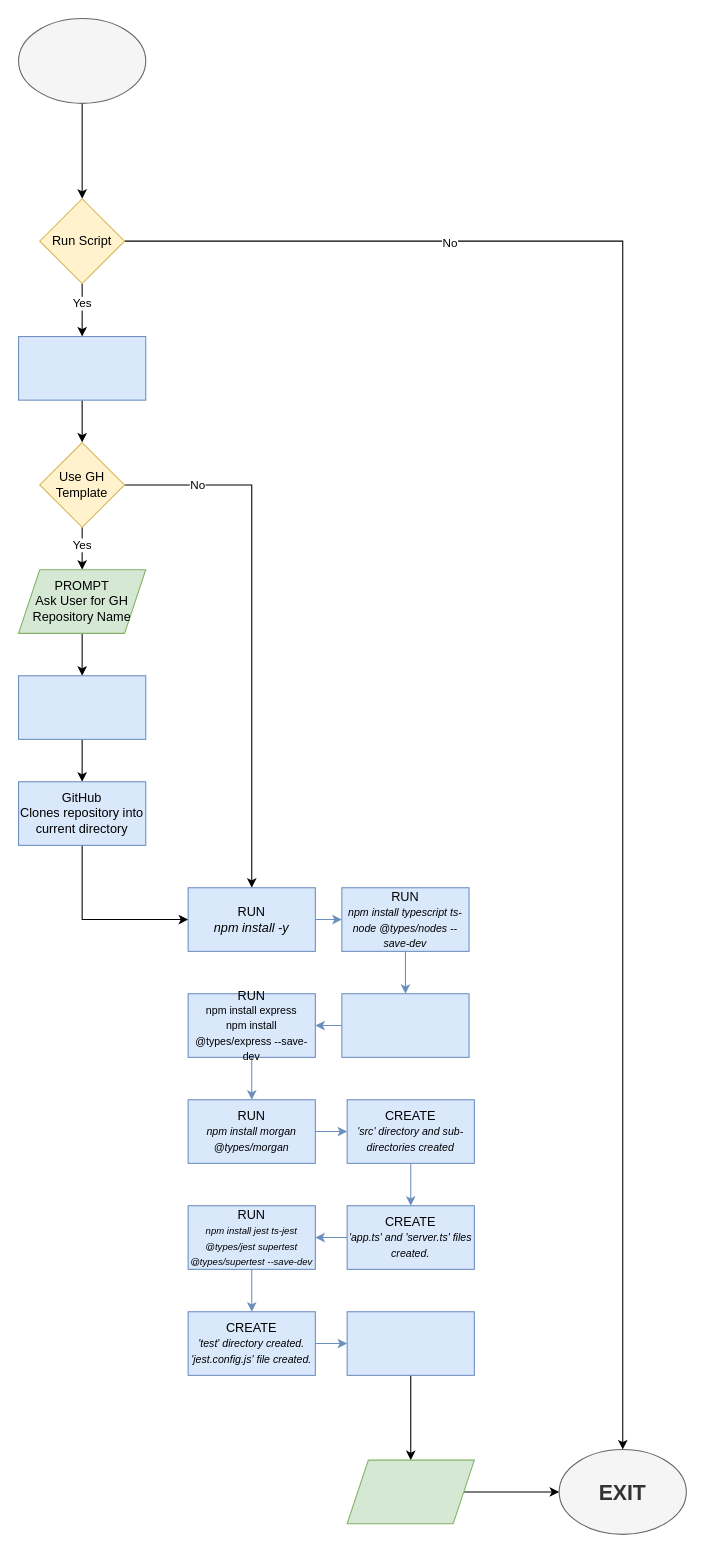
This 705x1553 diagram has some shape labels left out. Each missing label, with the centre of its shape:
Checks for GitHub flag: point 81,367
CREATE tsconfig.ts created: point 405,1025
GitHub Creates remote repository using template.: point 81,707
MODIFY 'scripts' section of 'package.json' modified.: point 410,1343
OUTPUT List out directory.: point 410,1491
START: point 81,60
